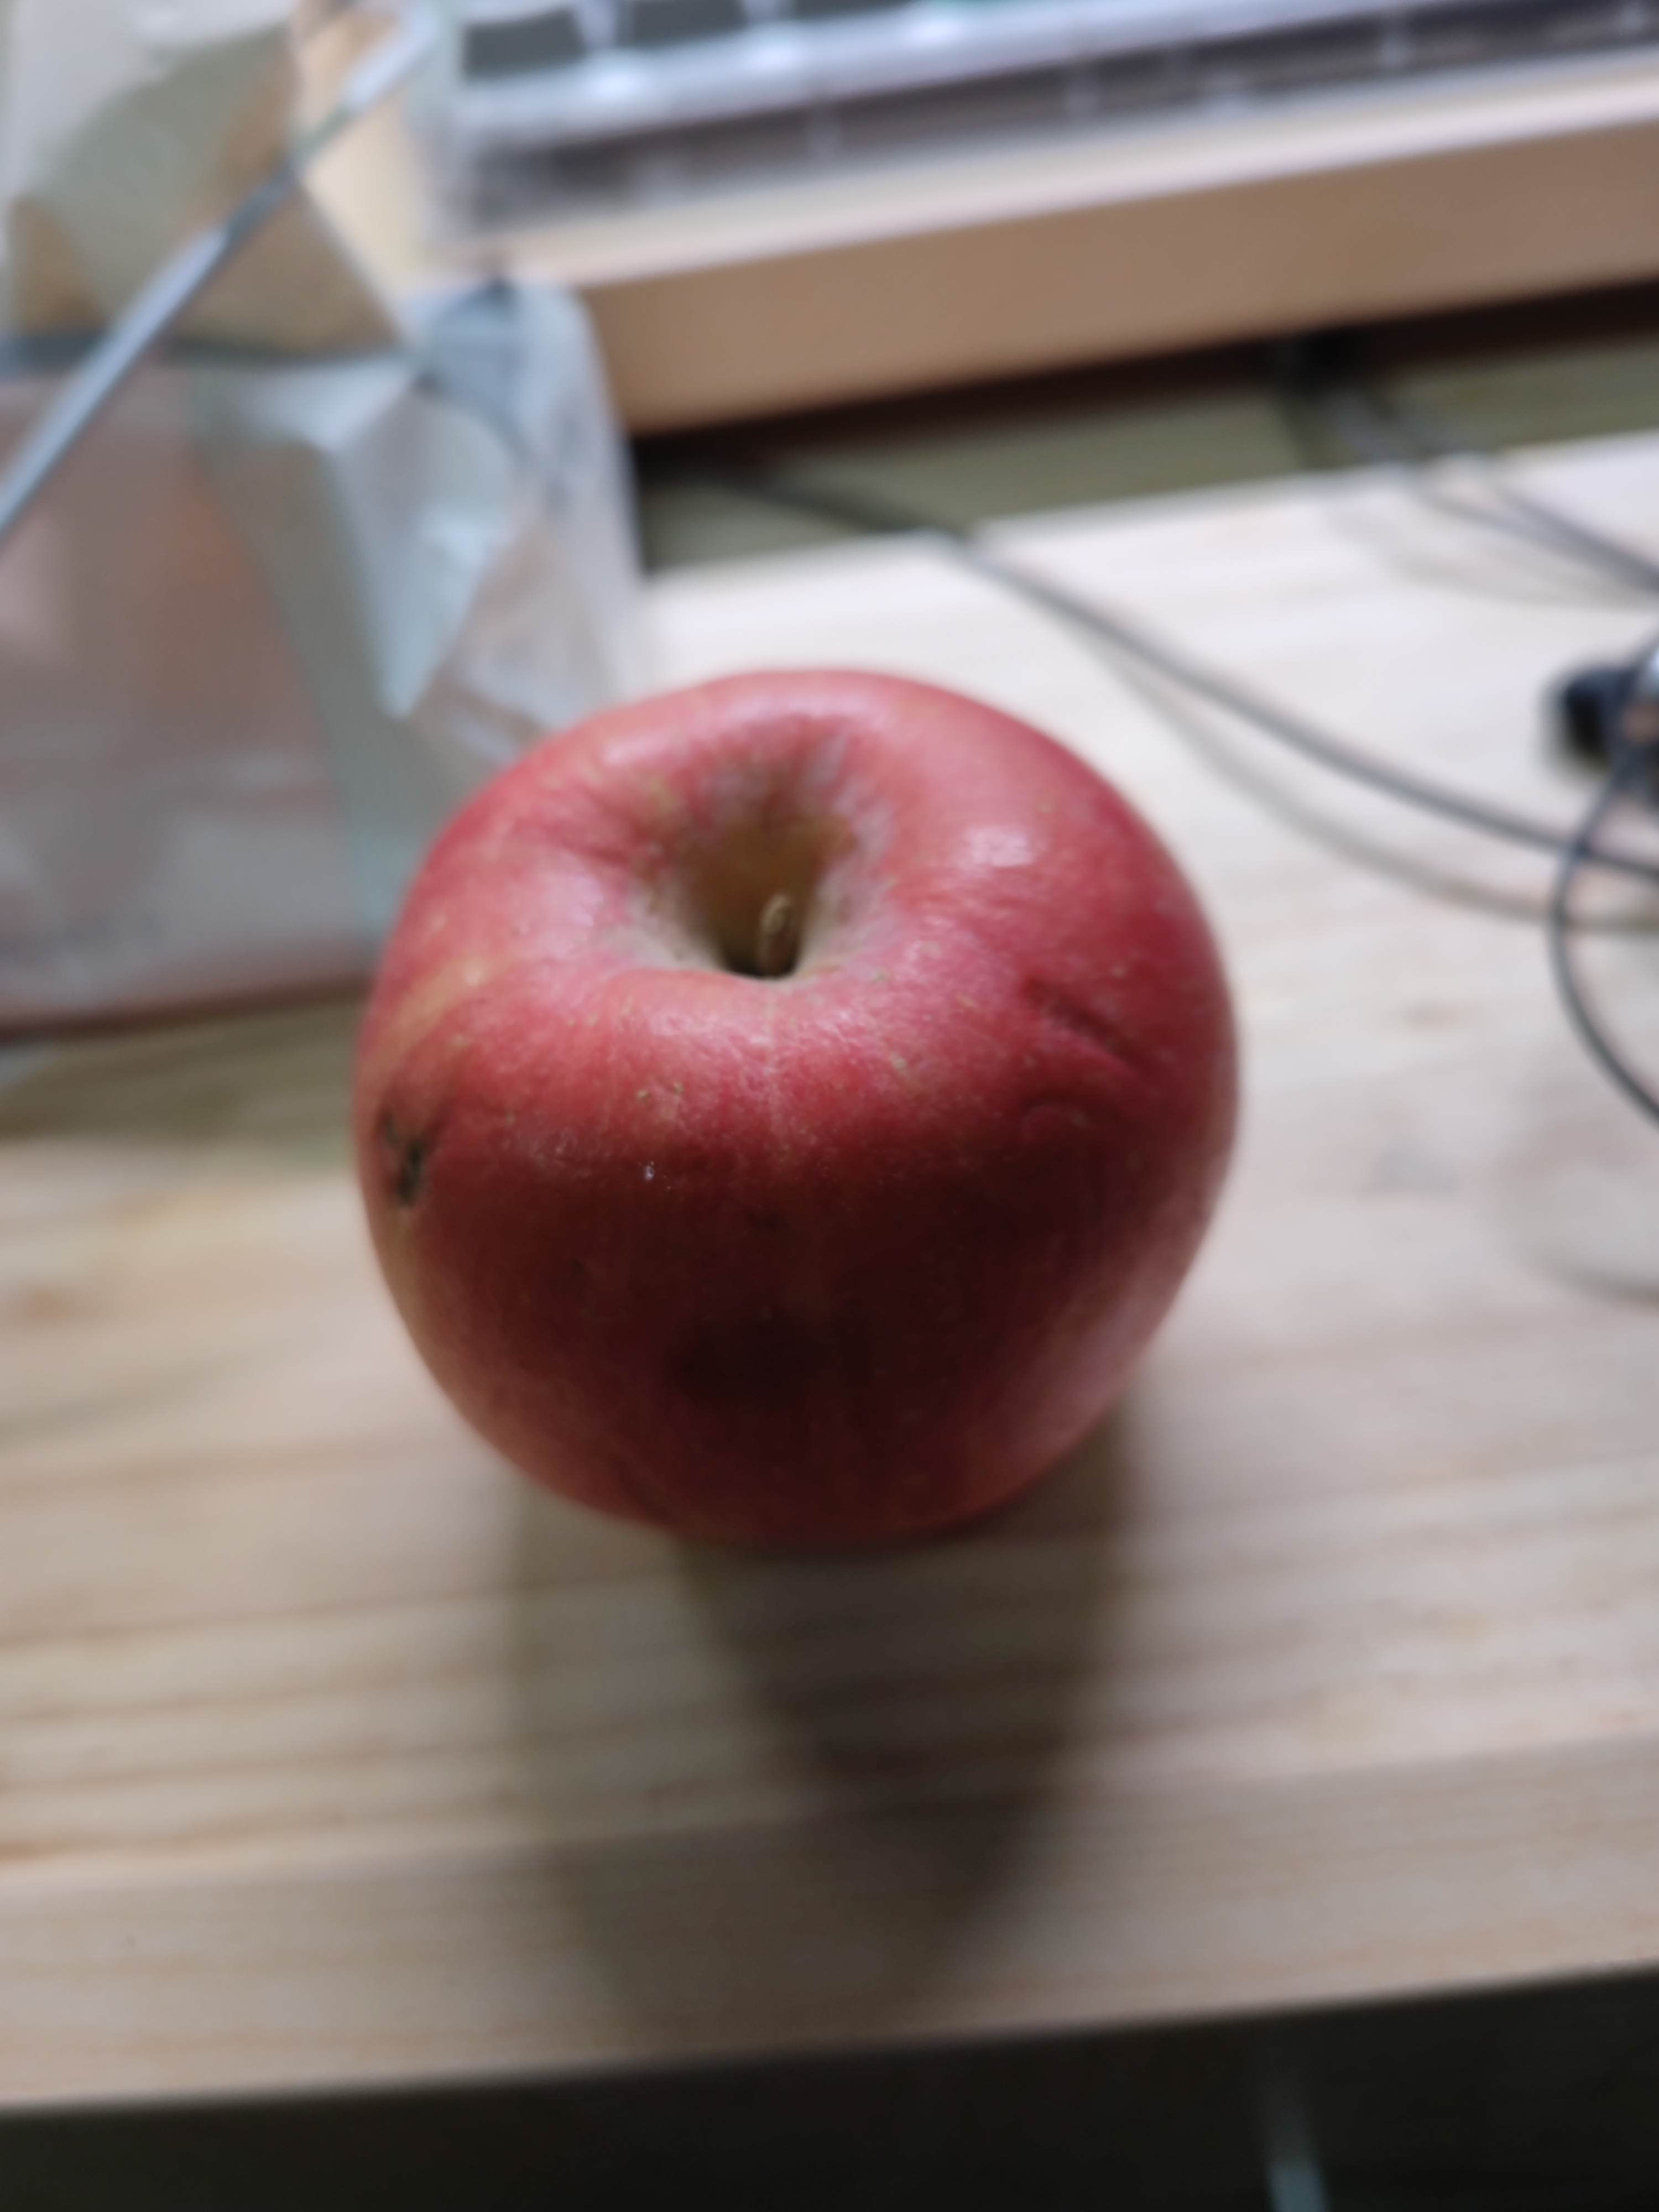apple: (345, 664, 1249, 1573)
